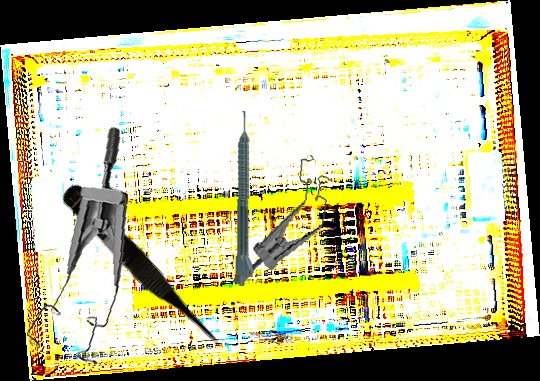Handpiece: (234, 111, 259, 287)
Micro Scissor: (54, 180, 231, 360)
Speculum: (10, 126, 142, 370), (232, 145, 337, 297)
